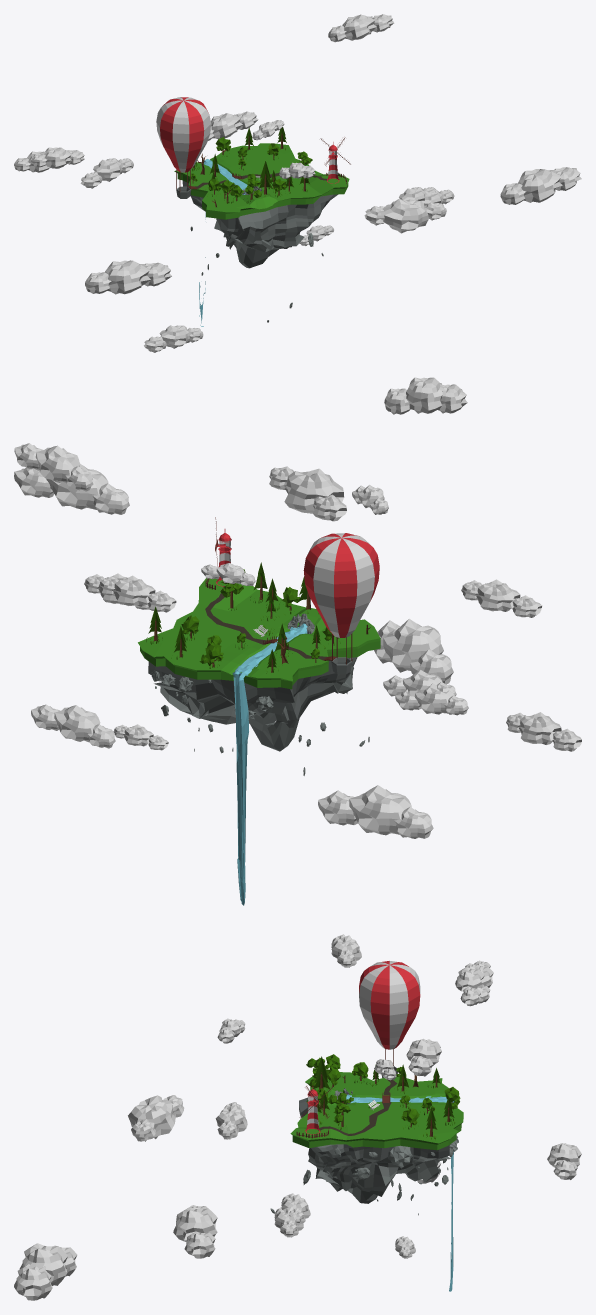
File: sky-island.glb
3 views of the same model, one above another, from view 1: azimuth 30°, elevation 25°; view 2: azimuth 150°, elevation 25°; view 3: azimuth 270°, elevation 25° (orthographic). The views are drawn at different scales.
Visible parts, largest first — view 1: Сфера, Куб.001, Куб, Сфера.001; view 2: Сфера, Куб.001, Куб, Сфера.001, Плоскость.005, Икосфера, Плоскость.035; view 3: Сфера, Куб.001, Куб, Сфера.001, Икосфера, Плоскость.005, Окружность.017.
Part boxes in pixels (x1,y1,x2,y2): Сфера: (14,14,581,414); Куб.001: (174,143,349,219); Куб: (182,180,338,268); Сфера.001: (156,97,210,198); Сфера: (14,443,581,838); Куб.001: (138,578,380,689); Куб: (148,657,357,751); Сфера.001: (303,533,379,674); Плоскость.005: (232,623,307,905); Икосфера: (150,613,369,775); Плоскость.035: (205,586,326,660); Сфера: (14,934,581,1300); Куб.001: (290,1072,463,1150); Куб: (299,1097,453,1203); Сфера.001: (359,961,420,1077); Икосфера: (270,1088,458,1215); Плоскость.005: (346,1094,454,1291); Окружность.017: (299,1086,333,1134).
Size of the model in its own units: 48.06 by 29.56 by 45.34.
